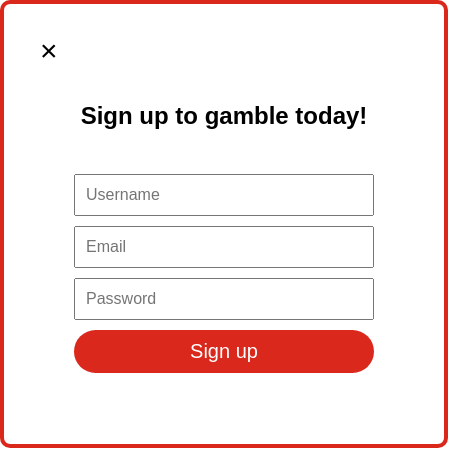
Test: Register › shows error message on failed registration
Type "newuser" into the field with placeholder "Username".
click(224, 195); type("newuser")  # box [74, 174, 374, 216]
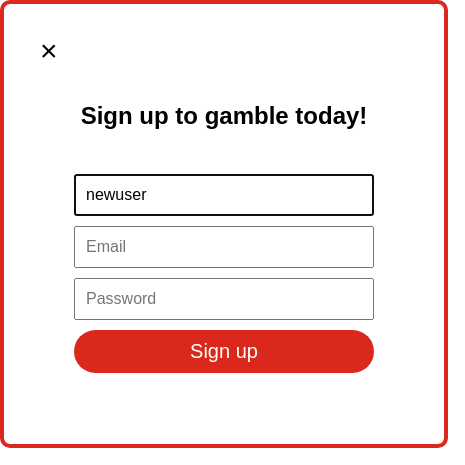
Type "taken@test.com" into the field with placeholder "Email".
click(224, 247); type("taken@test.com")  # box [74, 226, 374, 268]
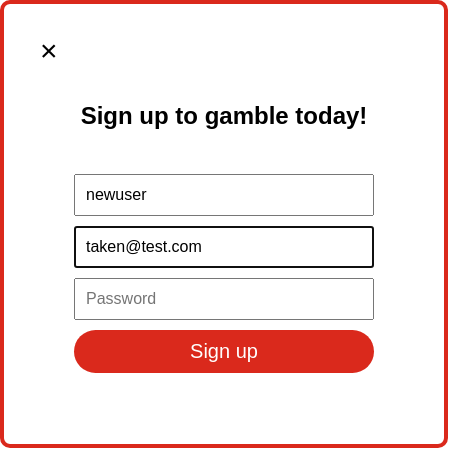
Type "securepassword" into the password field with placeholder "Password".
click(224, 299); type("securepassword")  # box [74, 278, 374, 320]
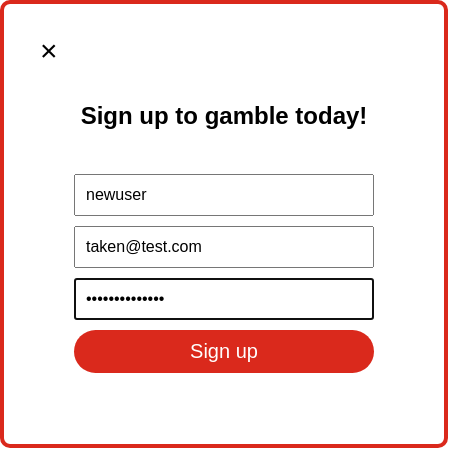
Click the button "Sign up".
click(224, 351)  # box [74, 330, 374, 373]
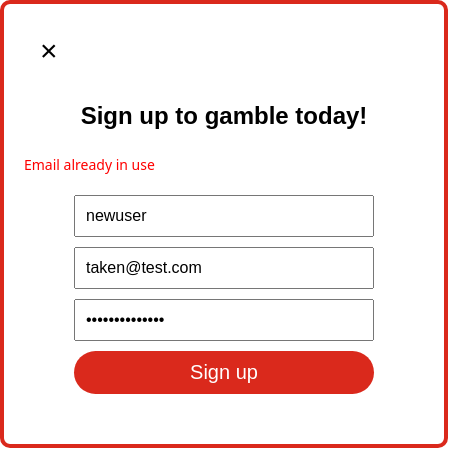
Now the text "Email already in use" is shown, box [24, 155, 155, 174]
